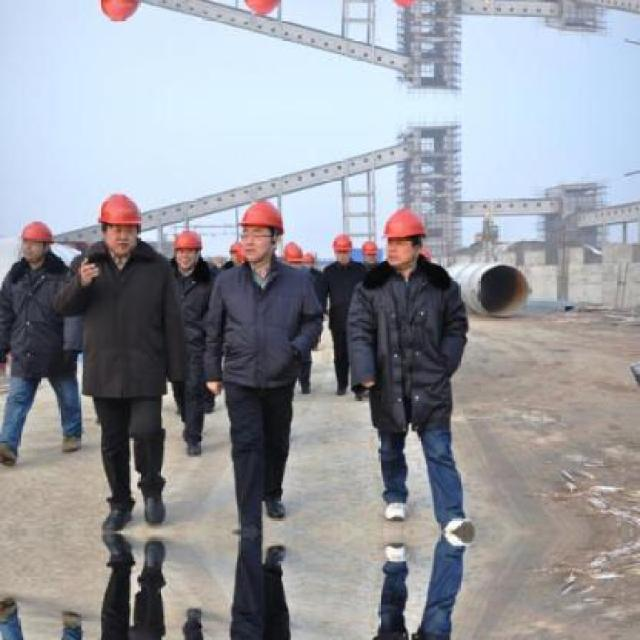helmet: (96, 191, 142, 255), (379, 205, 427, 266), (238, 196, 284, 259), (15, 216, 53, 264), (169, 224, 203, 268), (95, 0, 143, 23), (328, 228, 354, 264), (280, 237, 305, 274), (239, 0, 286, 17), (360, 235, 378, 263)
